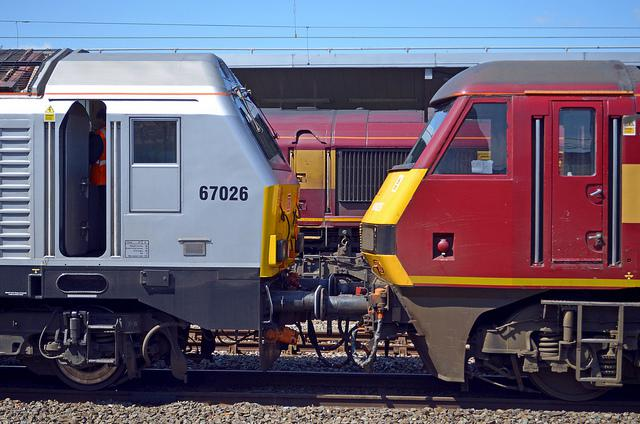Train: (0, 52, 640, 404), (258, 110, 429, 279)
